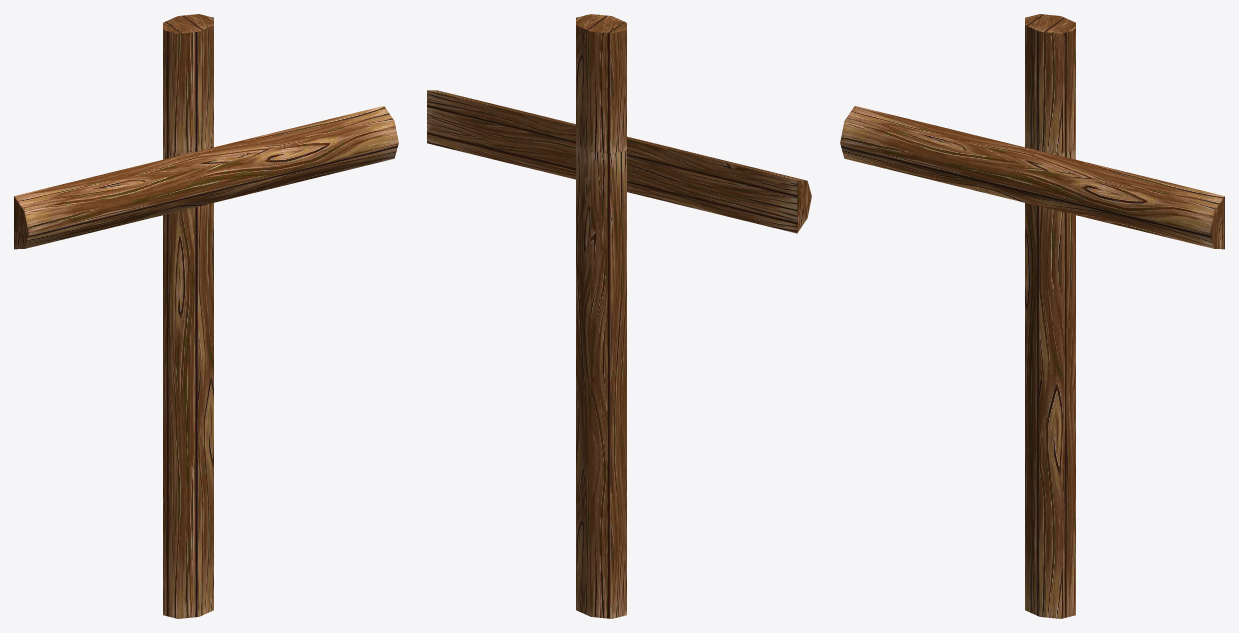
Rendered from CrossModel.fbx.
The picture shows the model from 3 angles, left to right: view 1: azimuth 30°, elevation 25°; view 2: azimuth 150°, elevation 25°; view 3: azimuth 330°, elevation 25°; orthographic projection.
Visible parts, largest first — view 1: Cylinder, Cylinder.011; view 2: Cylinder, Cylinder.011; view 3: Cylinder, Cylinder.011.
Boxes of the visible parts, x1,y1,x2,y2 form: Cylinder: (163,14,213,618); Cylinder.011: (14,106,398,249); Cylinder: (576,14,626,618); Cylinder.011: (427,90,811,233); Cylinder: (1025,14,1075,618); Cylinder.011: (840,106,1224,249).
Size of the model in its own units: 174 by 263 by 29.32.
